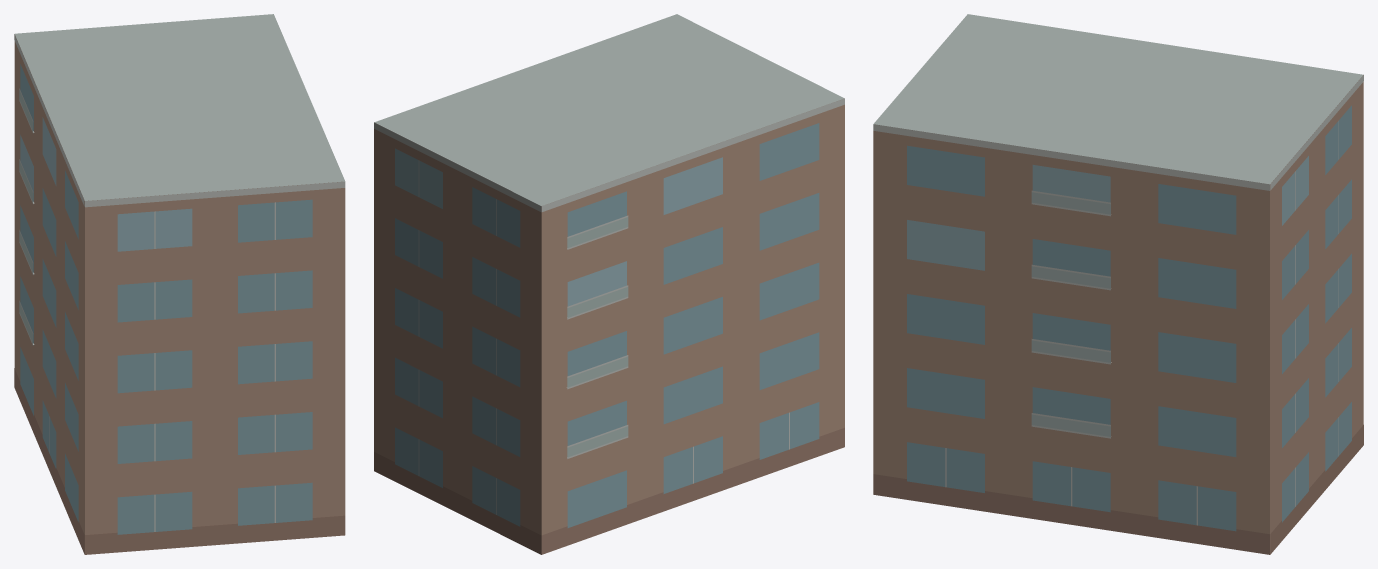
Rendered from survey-upis-32869797.glb.
3 renders of one model, left to right at view 1: azimuth 30°, elevation 25°; view 2: azimuth 150°, elevation 25°; view 3: azimuth 270°, elevation 25°, orthographic. The views are drawn at different scales.
Visible parts, largest first — view 1: survey-upis-32869797.tmp; view 2: survey-upis-32869797.tmp; view 3: survey-upis-32869797.tmp.
Boxes of the visible parts, x1,y1,x2,y2 form: survey-upis-32869797.tmp: [14, 14, 345, 554]; survey-upis-32869797.tmp: [374, 14, 844, 554]; survey-upis-32869797.tmp: [873, 14, 1363, 554].
Bounding box in the file's own units: 13.42 × 13.6 × 16.32.
